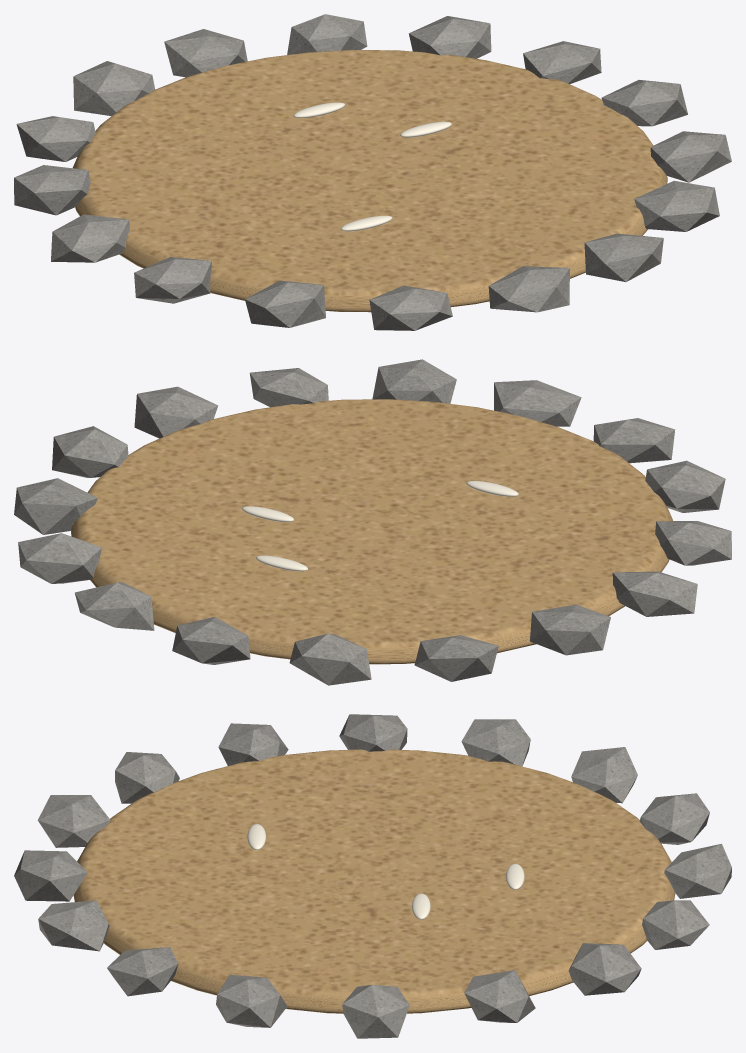
The model's file is dustbath.glb.
The picture shows the model from 3 angles, top to bottom: view 1: azimuth 30°, elevation 25°; view 2: azimuth 150°, elevation 25°; view 3: azimuth 270°, elevation 25°; orthographic projection.
Visible parts, largest first — view 1: dirt, rim.014, rim.012, rim.005, rim.008, rim.010, rim.013, rim.007, rim.015, rim.011, rim.009, rim (+5 smaller); view 2: dirt, rim.002, rim.001, rim.007, rim.008, rim.005, rim.010, rim.015, rim, rim.012, rim.006, rim.009 (+5 smaller); view 3: dirt, rim.012, rim.002, rim, rim.015, rim.011, rim.013, rim.001, rim.004, rim.005, rim.006, rim.014 (+5 smaller).
Boxes of the visible parts, x1,y1,x2,y2 form: dirt: (72,50,667,312); rim.014: (634,180,719,231); rim.012: (488,266,569,312); rim.005: (73,61,155,115); rim.008: (51,214,129,262); rim.010: (245,280,325,327); rim.013: (584,233,663,281); rim.007: (14,165,90,215); rim.015: (650,131,731,182); rim.011: (369,285,452,330); rim.009: (134,257,211,303); rim: (601,80,687,126); dirt: (71,399,672,664); rim.002: (18,533,101,583); rim.001: (14,478,97,534); rim.007: (530,604,610,655); rim.008: (612,571,697,616); rim.005: (289,633,371,685); rim.010: (645,460,725,512); rim.015: (134,386,218,438); rim: (52,426,128,477); rim.012: (494,380,581,426); rim.006: (414,635,498,681); rim.009: (655,521,731,565); dirt: (73,749,675,1013); rim.012: (14,850,87,901); rim.002: (568,943,641,995); rim: (342,985,409,1038); rim.015: (216,974,287,1027); rim.011: (37,795,110,847); rim.013: (38,900,109,951); rim.001: (464,970,535,1022); rim.004: (664,843,731,898); rim.005: (639,793,709,844); rim.006: (571,747,637,803); rim.014: (107,947,177,996).
Size of the model in its own units: 3.14 by 0.2414 by 3.06.
Materials: 3 (2 with a texture image).
